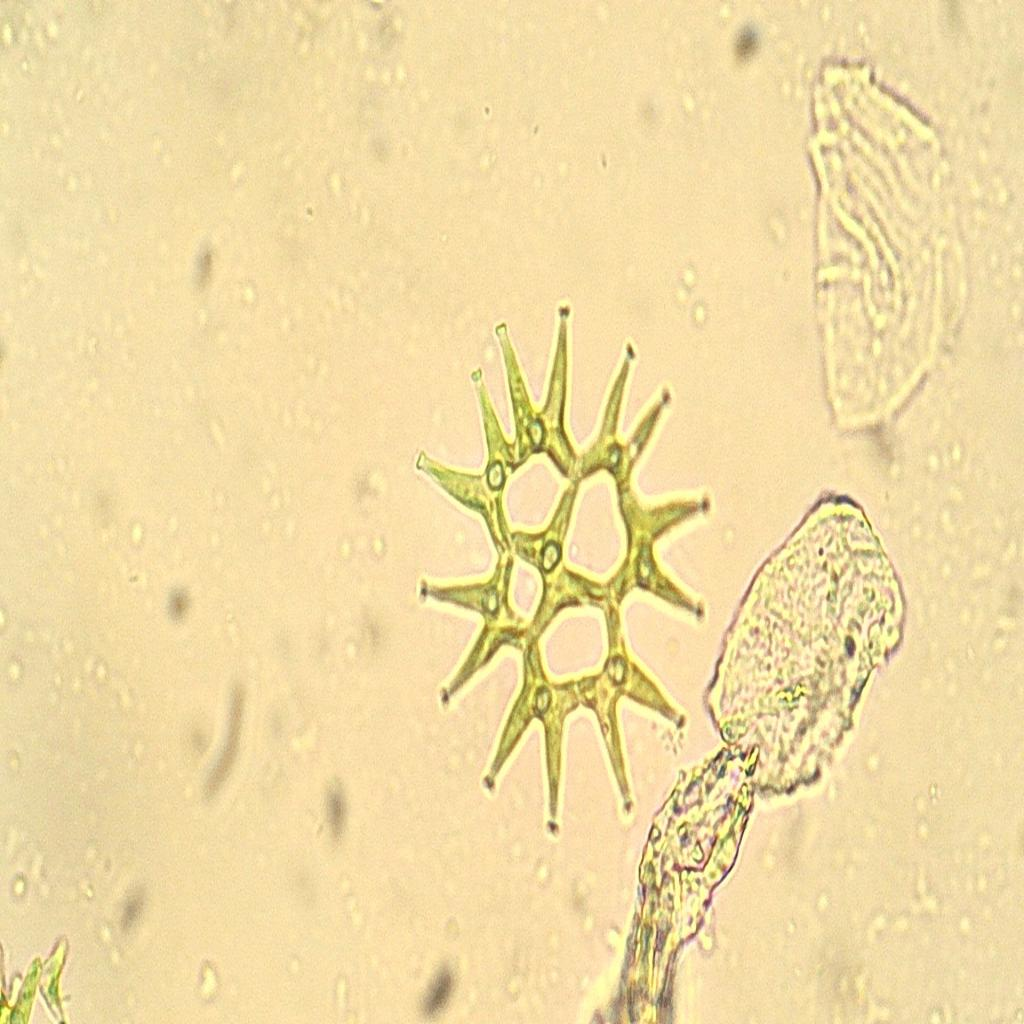Pediastrum_CTH: (388, 289, 732, 853)
